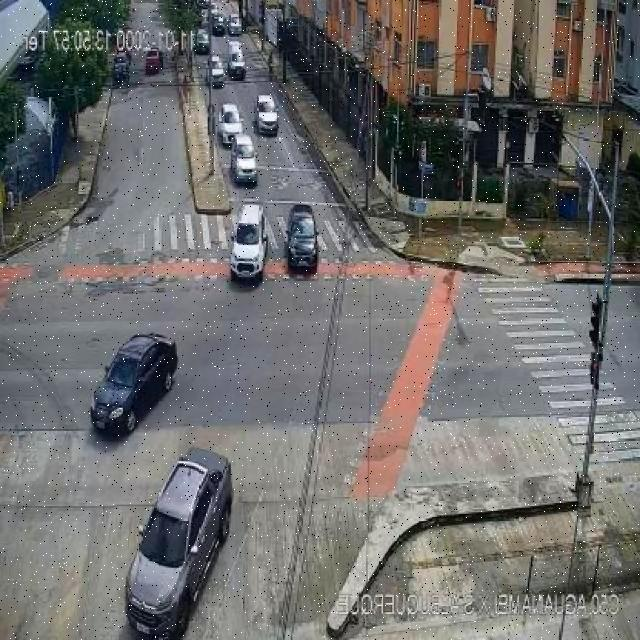Car: (124, 448, 231, 636), (89, 333, 176, 436), (228, 203, 268, 281), (285, 203, 317, 270), (230, 135, 258, 184), (218, 104, 242, 147), (256, 94, 278, 136), (227, 44, 246, 80), (207, 55, 225, 87), (112, 54, 130, 82), (193, 29, 210, 53), (211, 12, 226, 35), (227, 15, 242, 36), (196, 0, 209, 10)
